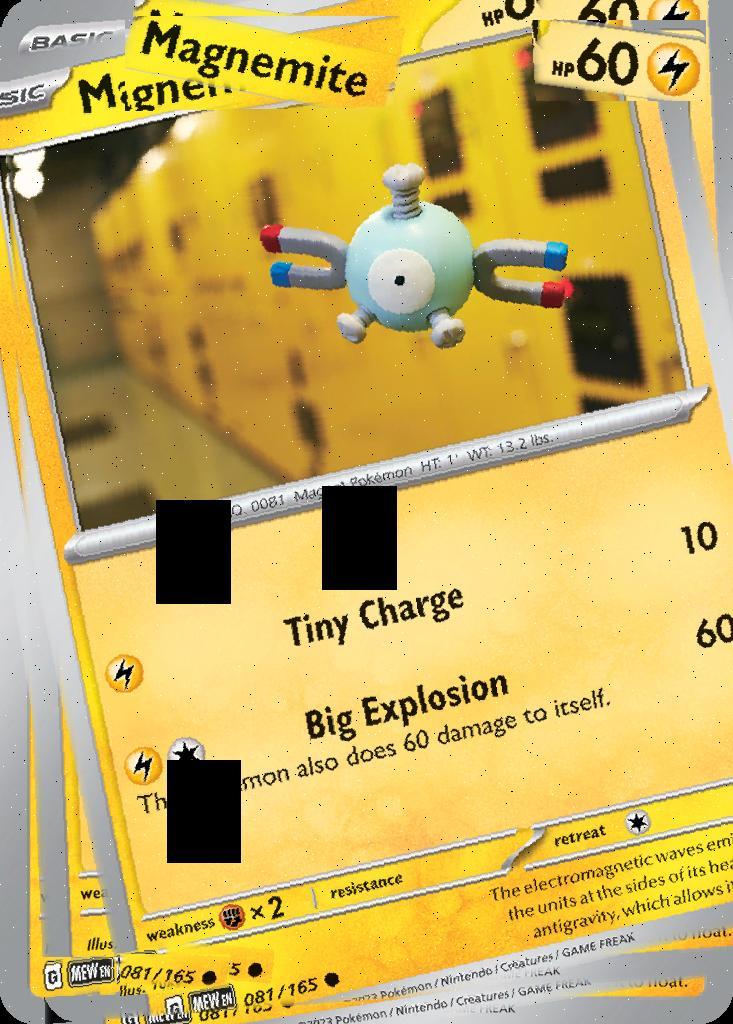card: (0, 0, 733, 1024)
hp: (531, 20, 706, 101)
name: (125, 16, 400, 111)
set num: (121, 955, 231, 997)
set symbol: (39, 957, 118, 997)
